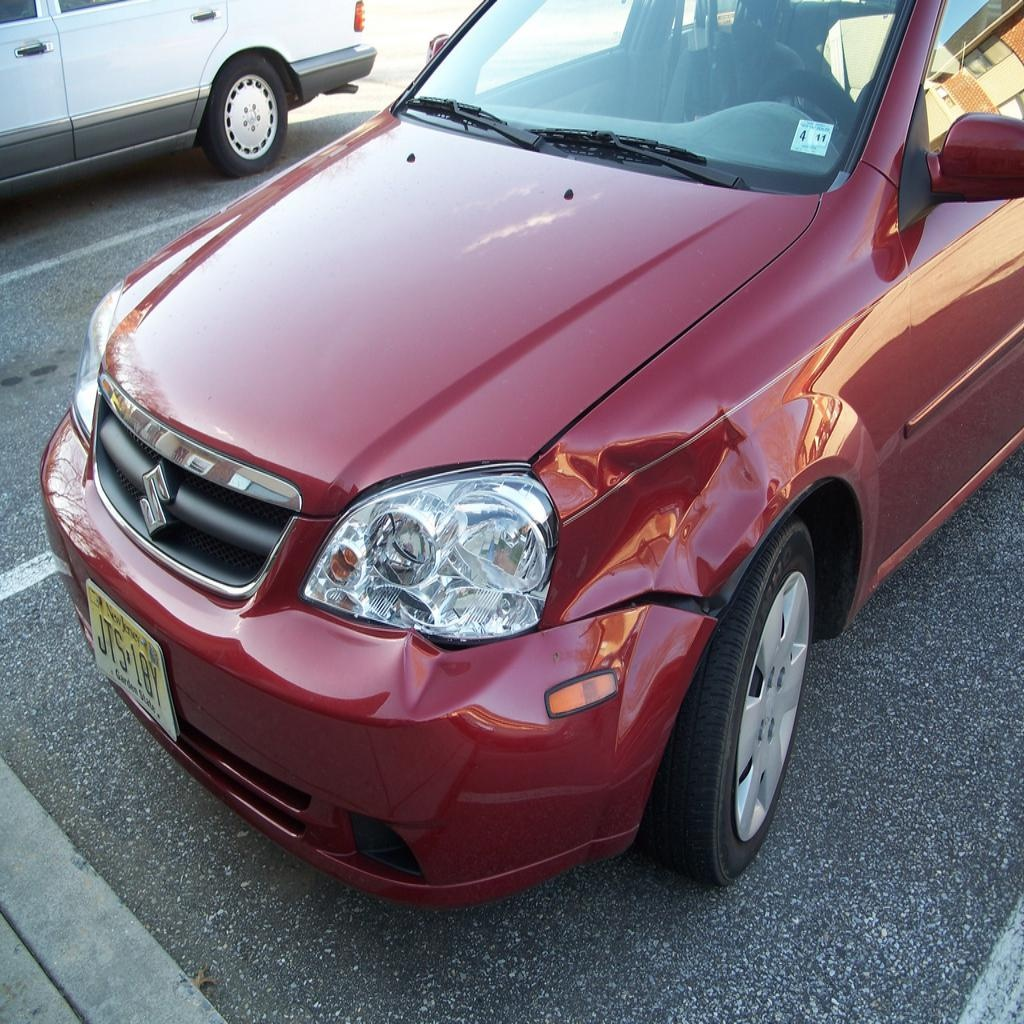Dent: (392, 402, 773, 745)
